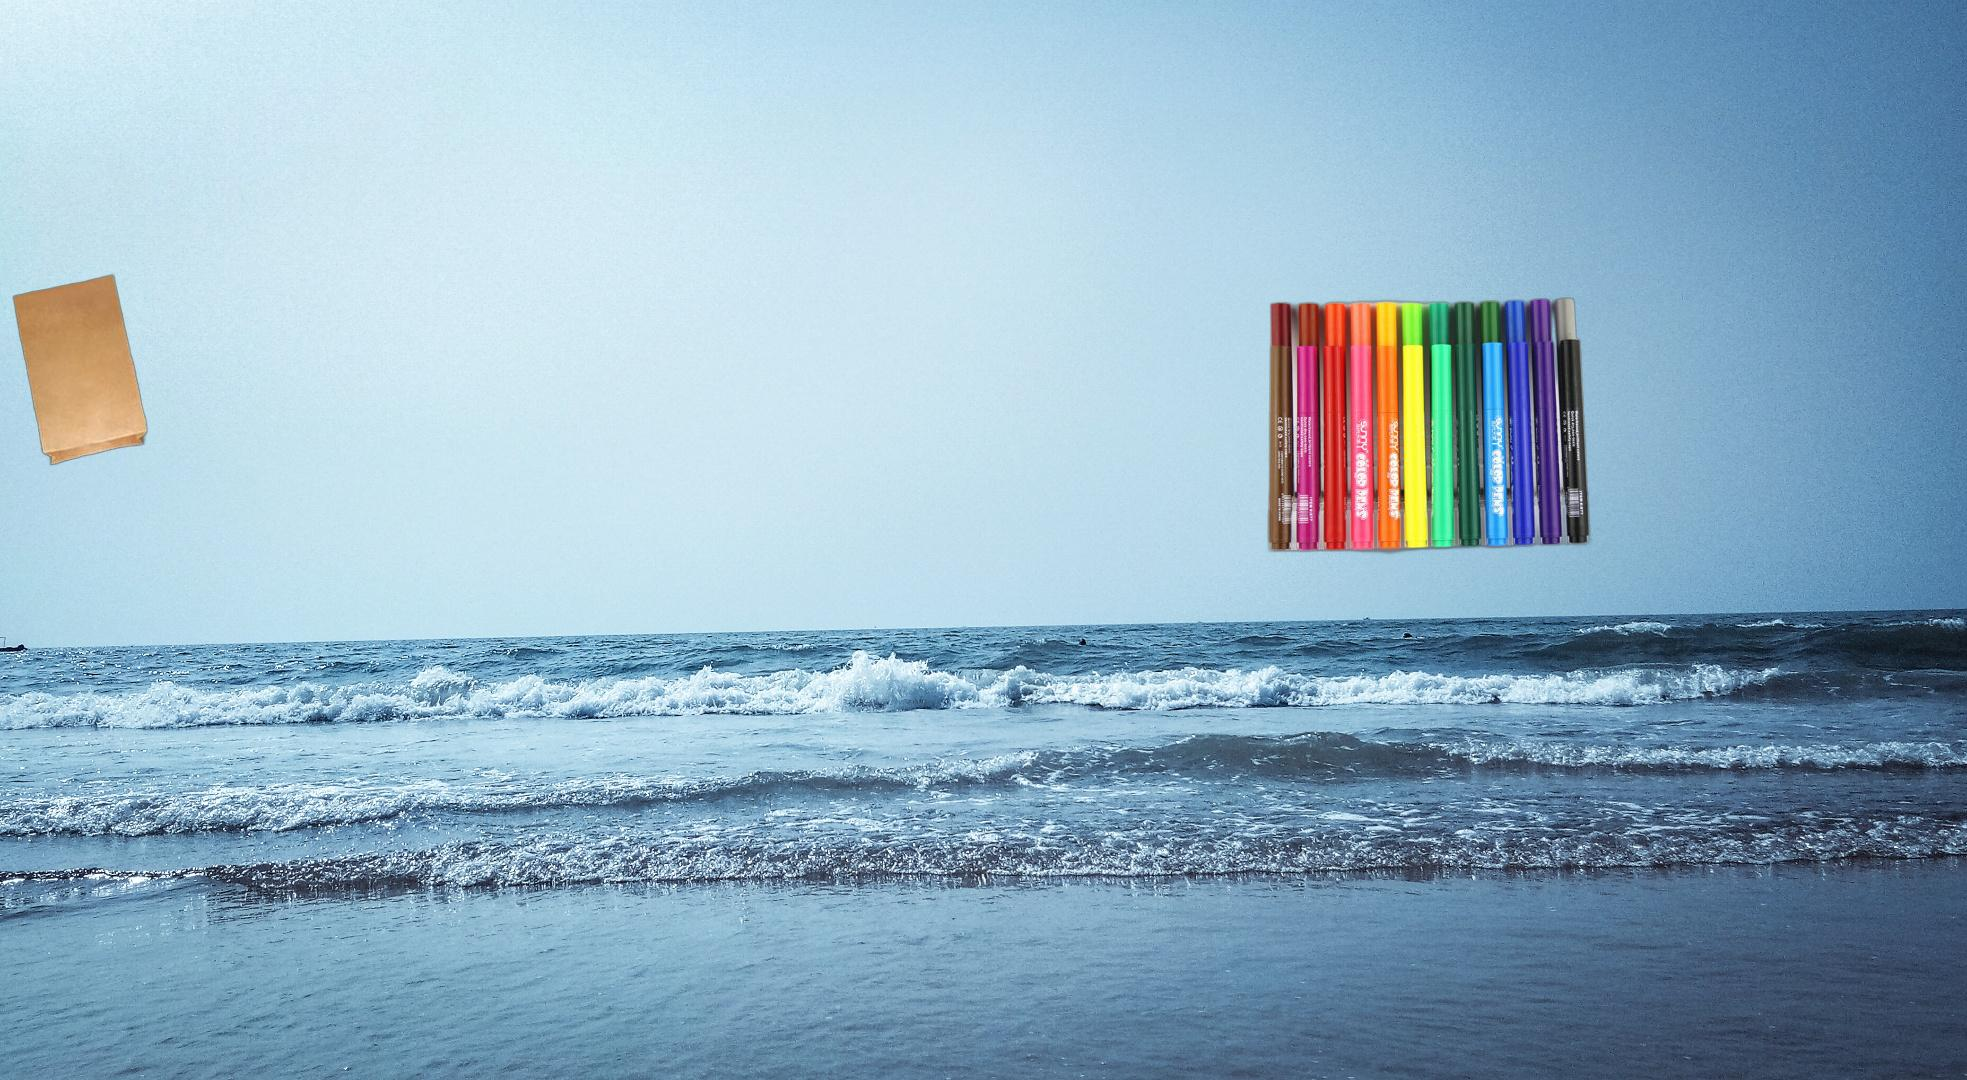paper-bag: (12, 273, 149, 468)
penholder: (1261, 295, 1596, 556)
